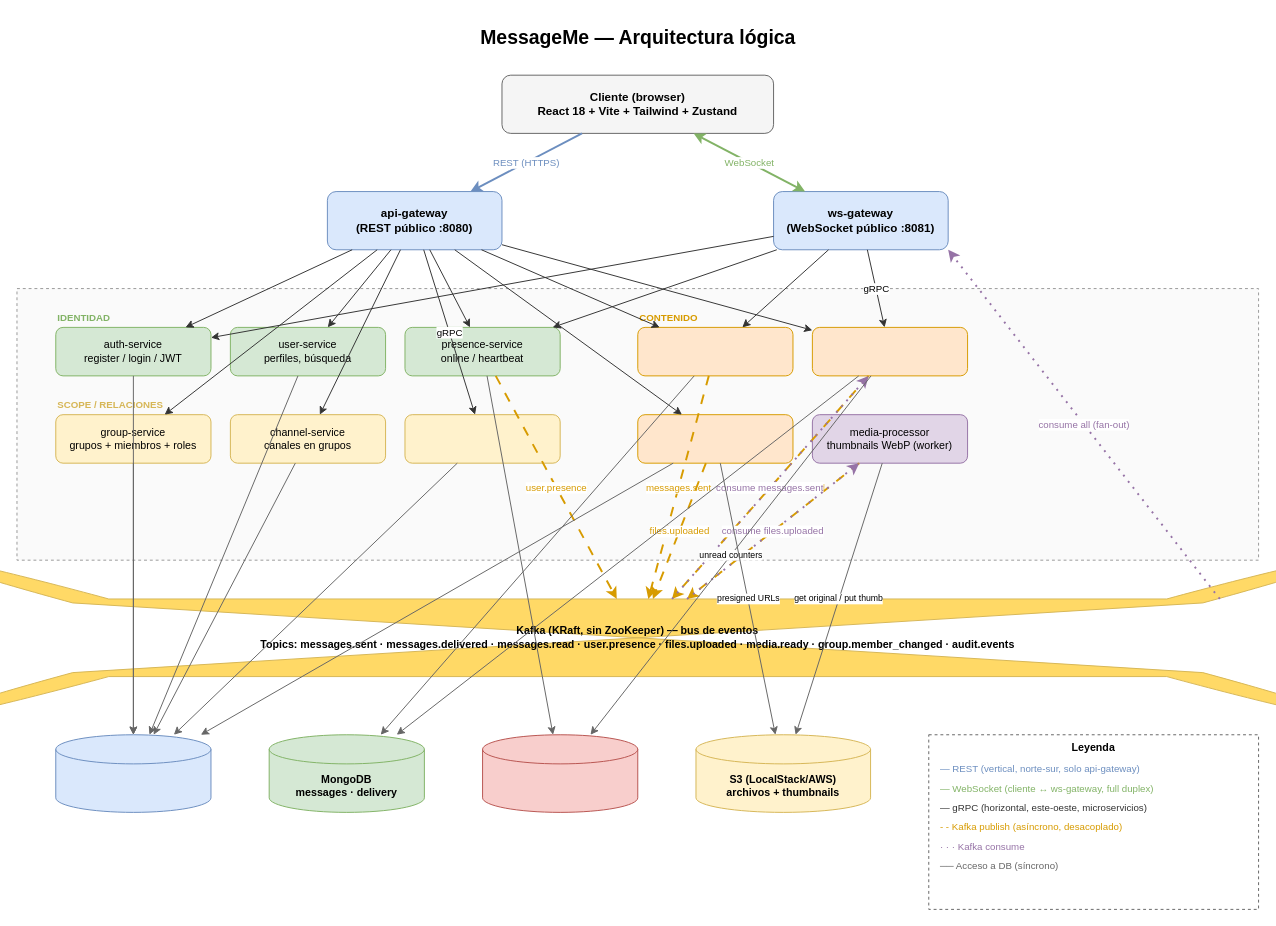
This 1276x926 diagram has some shape labels left out. Each missing label, with the box of its shape:
12 microservicios — gRPC interno (este-oeste): (16, 288, 1259, 560)
delivery-service SENT / DELIVERED / READ: (811, 326, 968, 376)
direct-service DMs 1-a-1: (404, 414, 560, 463)
file-service URLs presignadas S3: (637, 414, 793, 463)
message-service persistencia de mensajes: (637, 326, 793, 376)
PostgreSQL 7 DBs (1 por servicio): (55, 734, 211, 812)
Redis presencia + unread counters: (482, 734, 638, 812)
